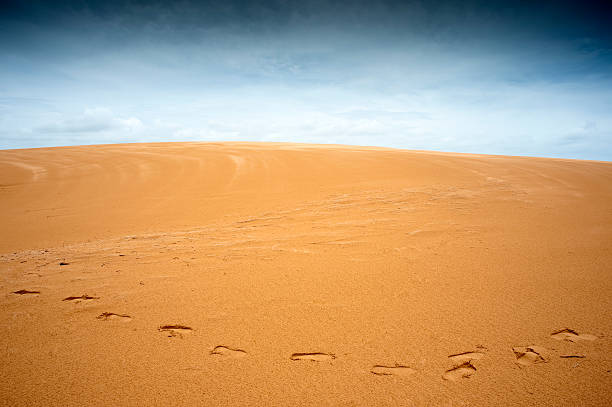human_footprint: (442, 346, 484, 380), (512, 345, 547, 365), (551, 328, 596, 341), (370, 363, 415, 375), (210, 345, 246, 357), (158, 325, 192, 337), (290, 352, 335, 361), (96, 312, 131, 321), (63, 294, 98, 302), (13, 289, 39, 295)
